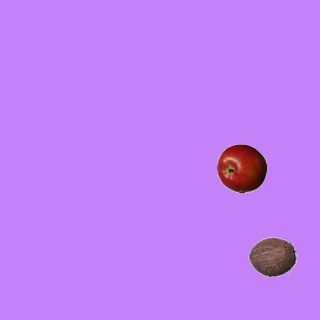Apple Braeburn: (216, 143, 266, 193)
Cocos: (247, 231, 297, 281)
